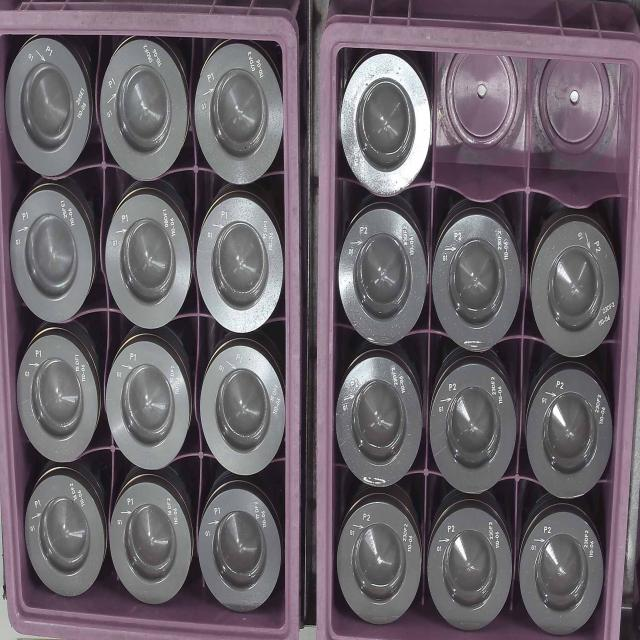P1: (99, 41, 197, 181), (197, 335, 289, 476), (198, 40, 286, 183), (8, 31, 92, 180), (10, 183, 100, 322), (196, 195, 286, 332), (104, 188, 192, 328), (110, 470, 194, 608), (14, 334, 104, 458), (21, 470, 109, 594), (110, 335, 192, 468), (200, 482, 280, 614)
P2: (531, 202, 621, 359), (342, 52, 432, 200), (437, 201, 521, 352), (523, 364, 614, 497), (342, 208, 428, 347), (426, 503, 514, 636), (433, 362, 520, 496), (336, 498, 421, 630), (519, 506, 604, 637), (339, 362, 423, 491)
